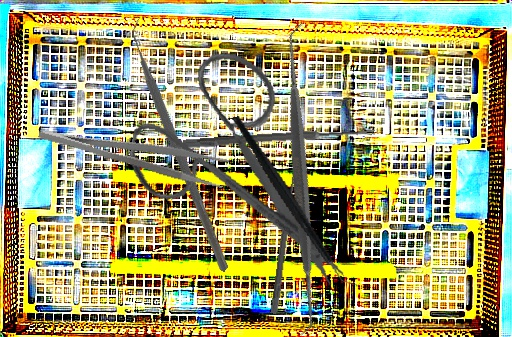Chopper: (47, 12, 320, 273), (231, 98, 360, 306)
Dressing Forceps: (36, 109, 231, 192)
Iris Scissors: (112, 37, 381, 292)
Spatula Surgical: (143, 21, 459, 337)
Surgical Spoon: (270, 153, 301, 315), (182, 126, 376, 150)
